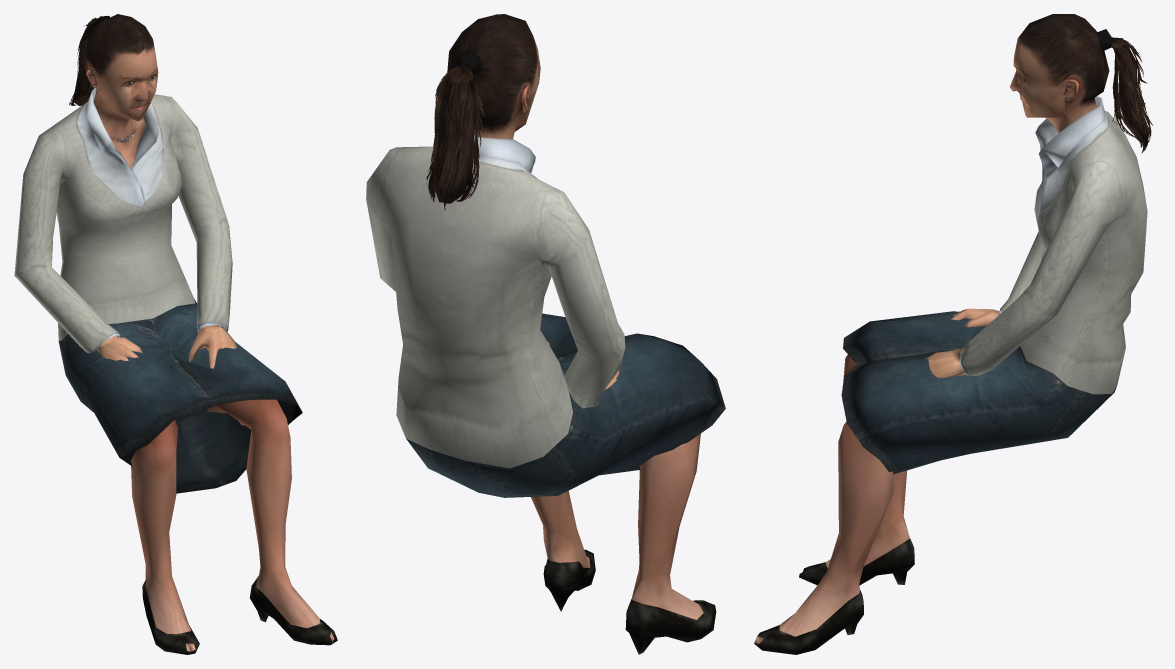
File: Female_Adult_02_seated.glb
3 views of the same model, side by side, from view 1: azimuth 30°, elevation 25°; view 2: azimuth 150°, elevation 25°; view 3: azimuth 270°, elevation 25° (orthographic). The views are drawn at different scales.
Parts seen in each view (by area): view 1: f002_hipoly_81_bones_opacity_b; view 2: f002_hipoly_81_bones_opacity_b; view 3: f002_hipoly_81_bones_opacity_b.
Boxes of the visible parts, left/top/right/bottom form: f002_hipoly_81_bones_opacity_b: left=14, top=14, right=337, bottom=654; f002_hipoly_81_bones_opacity_b: left=366, top=14, right=725, bottom=654; f002_hipoly_81_bones_opacity_b: left=754, top=14, right=1153, bottom=654.
Size of the model in its own units: 0.5421 by 1.41 by 0.8722.
Materials: 3 (3 with a texture image).
